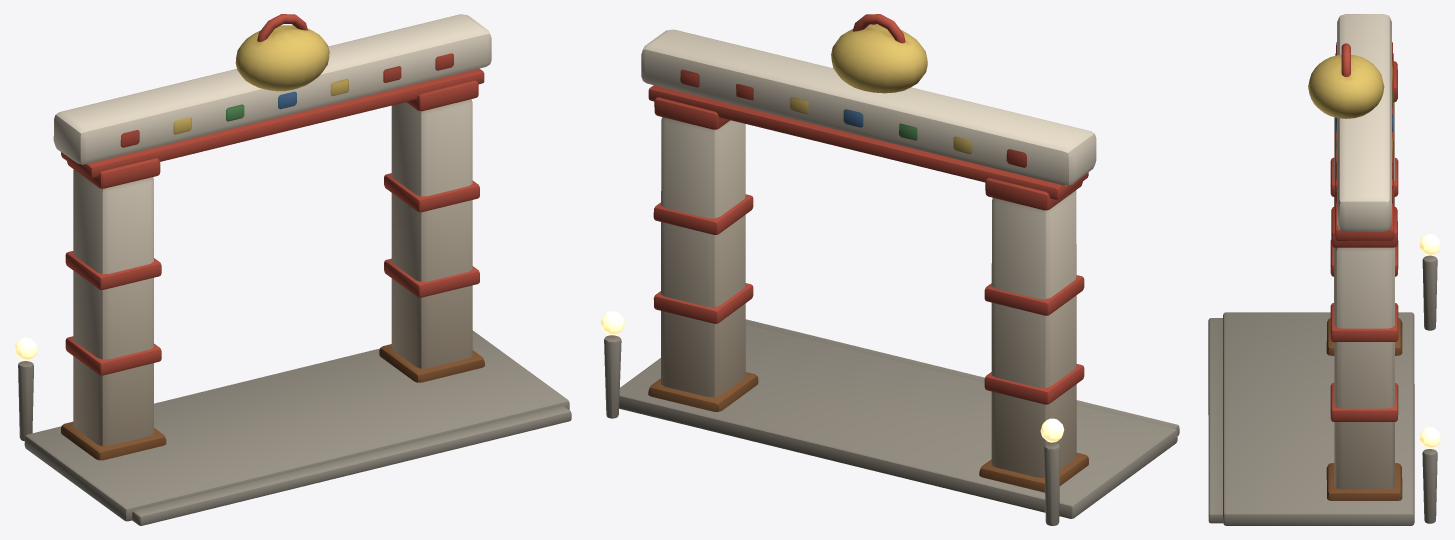
The picture shows the model from 3 angles, left to right: view 1: azimuth 30°, elevation 25°; view 2: azimuth 150°, elevation 25°; view 3: azimuth 270°, elevation 25°; orthographic projection. The views are drawn at different scales.
Parts seen in each view (by area): view 1: gate_b8fbac79; view 2: gate_b8fbac79; view 3: gate_b8fbac79.
Boxes of the visible parts, x1,y1,x2,y2 form: gate_b8fbac79: [14, 14, 571, 525]; gate_b8fbac79: [600, 14, 1179, 525]; gate_b8fbac79: [1208, 14, 1440, 525].
Size of the model in its own units: 5.27 by 4.6 by 2.55.
